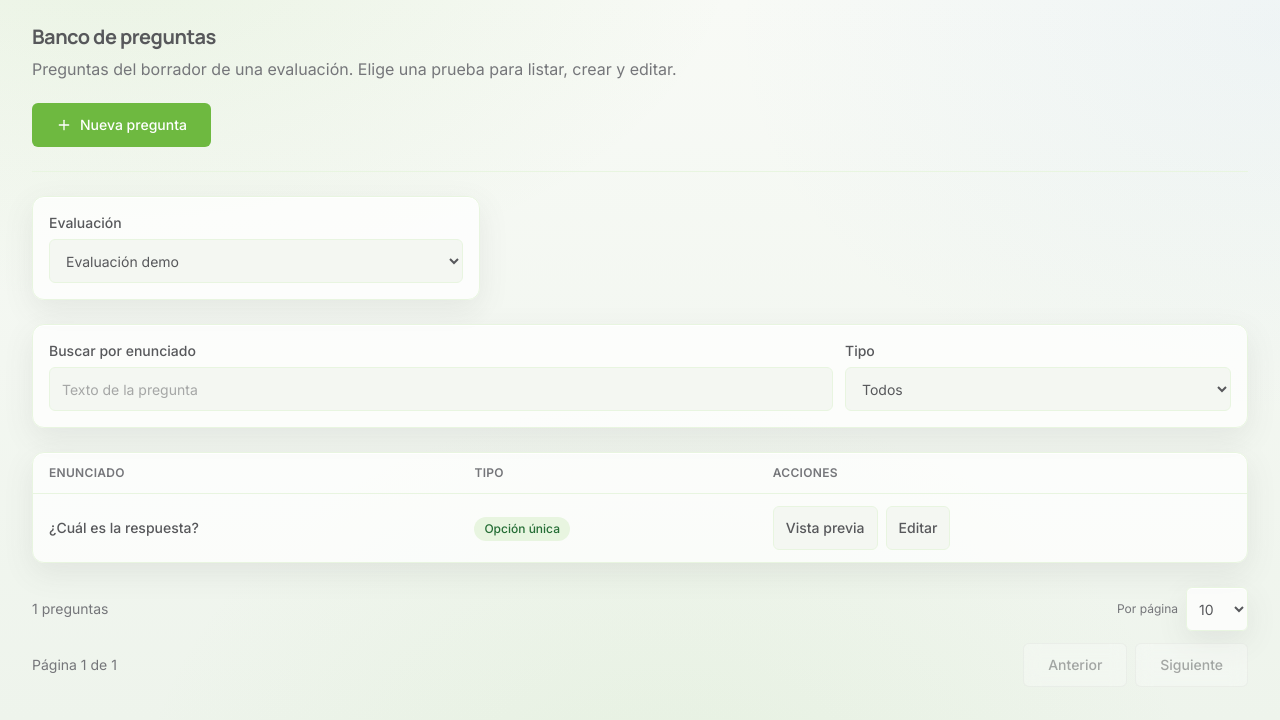
Test case: PruebasQuestionsList UI › lists questions for the selected test and opens preview
The width and height of the screenshot is (1280, 720).
Expected: the heading "Banco de preguntas" is shown, [32,23,216,50]
Expected: the number of rows with test id "question-row" is 1, [33,494,1247,562]
Click the button "Vista previa" at (825, 528), box [773,506,878,550]
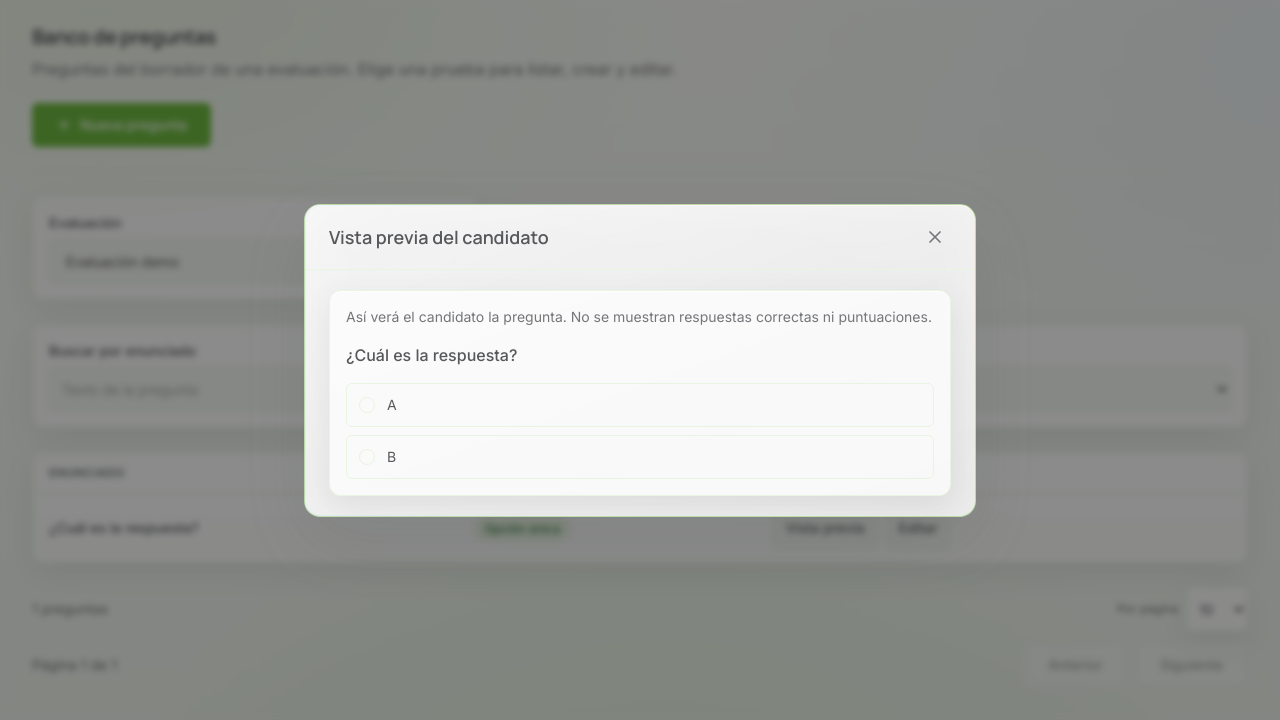
Now the element with test id "question-candidate-preview" is shown, box [329,290,951,496]
